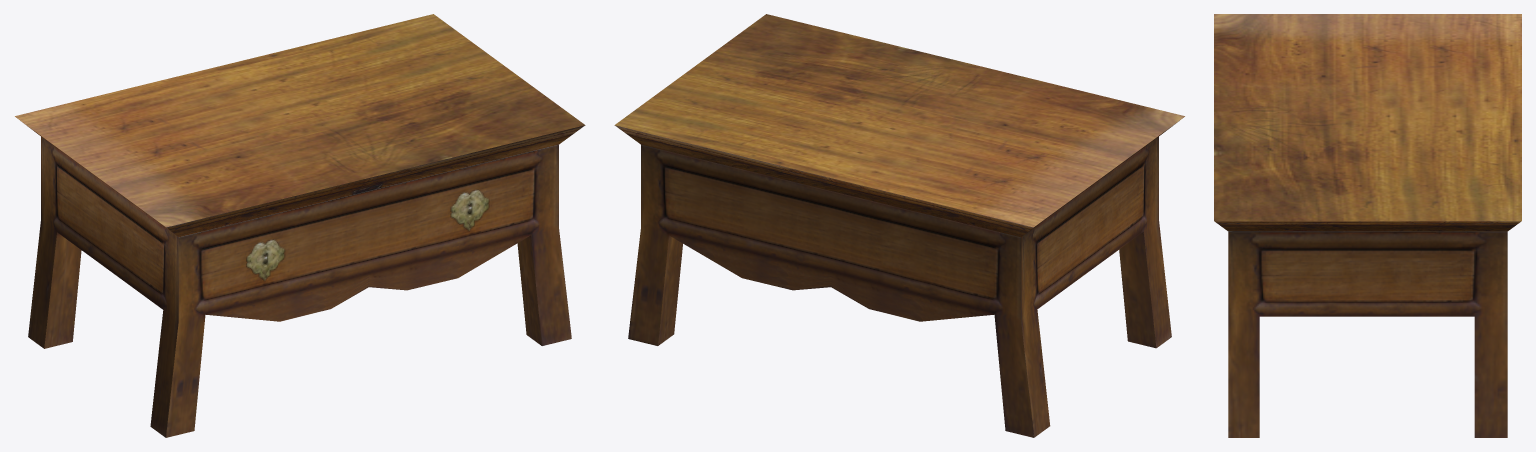
The model's file is desk.fbx.
3 renders of one model, left to right at view 1: azimuth 30°, elevation 25°; view 2: azimuth 150°, elevation 25°; view 3: azimuth 270°, elevation 25°, orthographic.
Parts seen in each view (by area): view 1: desk; view 2: desk; view 3: desk.
Part boxes in pixels (<box>): desk: <box>15,14,585,437</box>; desk: <box>614,14,1184,437</box>; desk: <box>1214,14,1521,437</box>.
Bounding box in the file's own units: 62.64 × 31.02 × 39.32.
